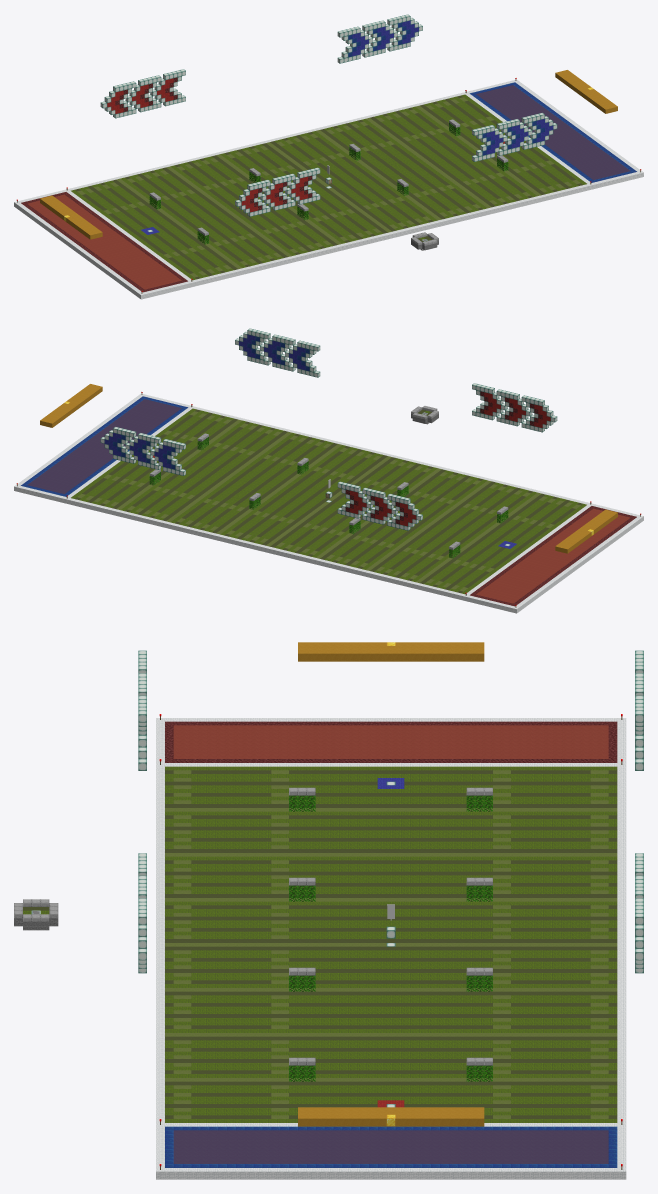
Rendered from minecraft.obj.
3 renders of one model, top to bottom at view 1: azimuth 30°, elevation 25°; view 2: azimuth 150°, elevation 25°; view 3: azimuth 270°, elevation 25°, orthographic. The views are drawn at different scales.
Bounding box in the file's own units: 127 × 21 × 71.
